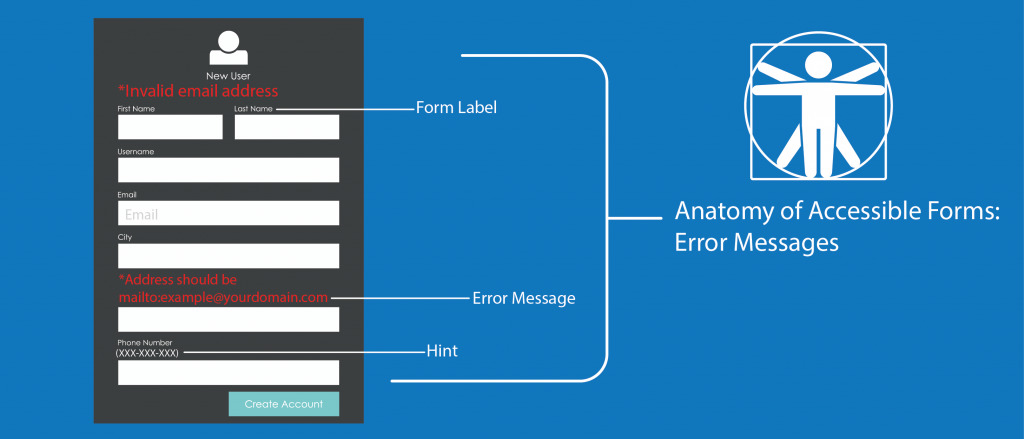error_message: (118, 84, 278, 100), (119, 293, 329, 303), (119, 275, 240, 287)
